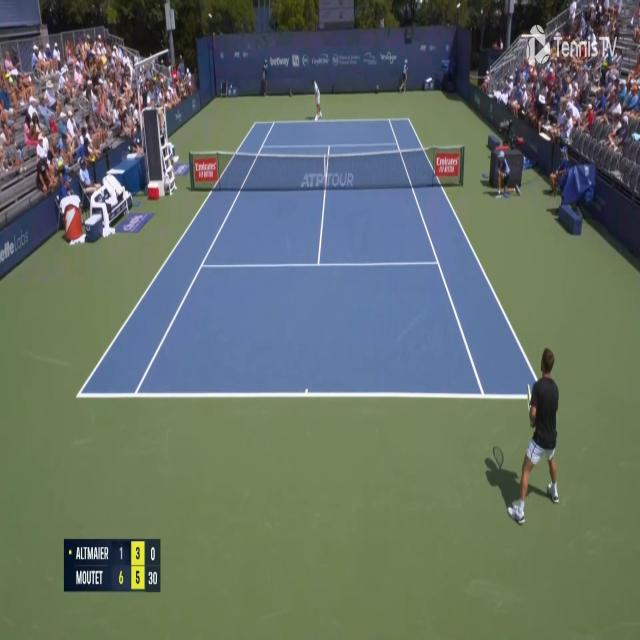tennis-player: (511, 340, 564, 522), (310, 78, 323, 122)
